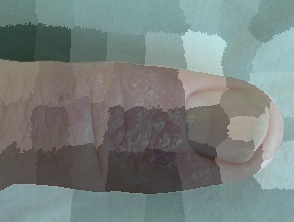Nail_psoriasis: (95, 70, 280, 190)
